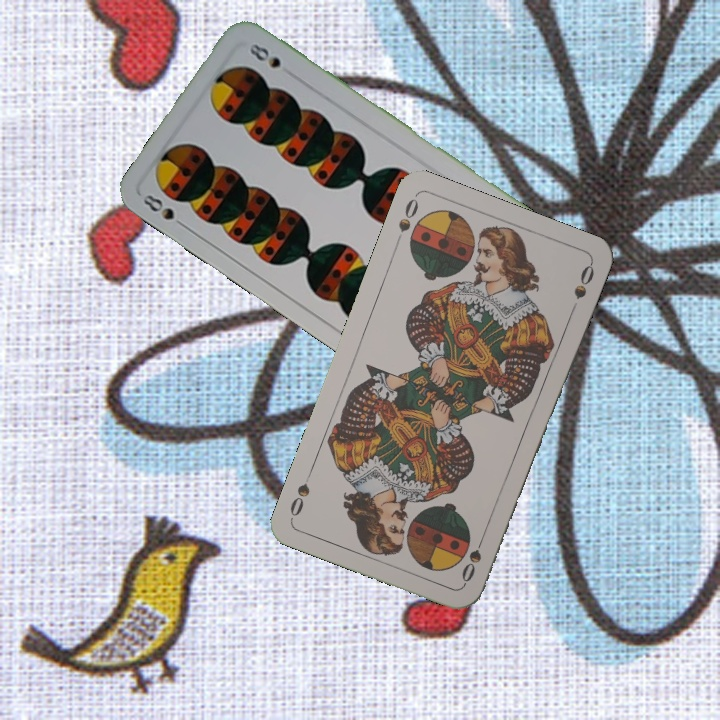S8: (139, 190, 190, 232)
SO: (457, 529, 488, 586), (391, 194, 421, 249)
